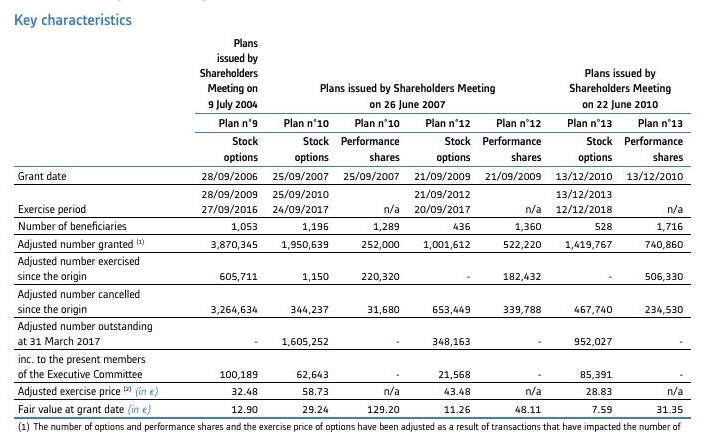table: (0, 0, 704, 432)
